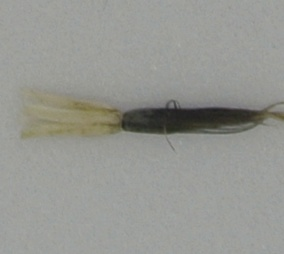เมล้ดปลายพู่กัน: (18, 86, 284, 153)
